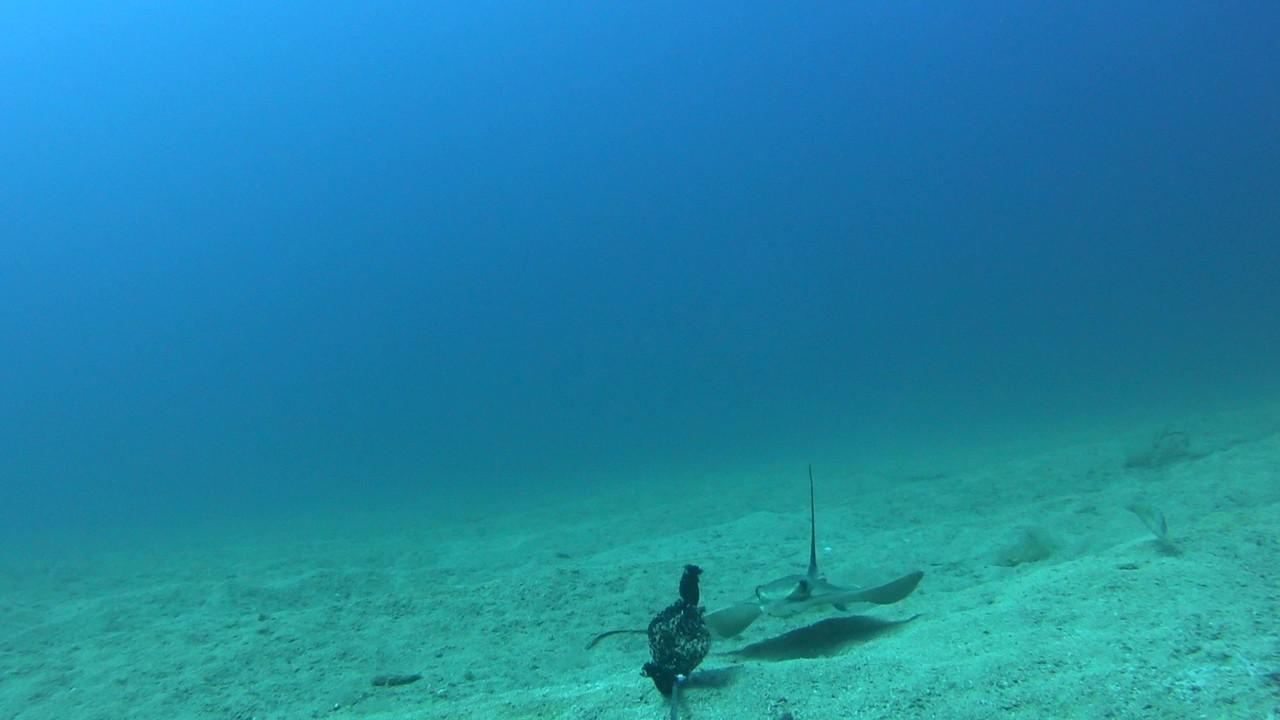myliobatis: (672, 454, 952, 643)
raor: (1116, 496, 1174, 536)
